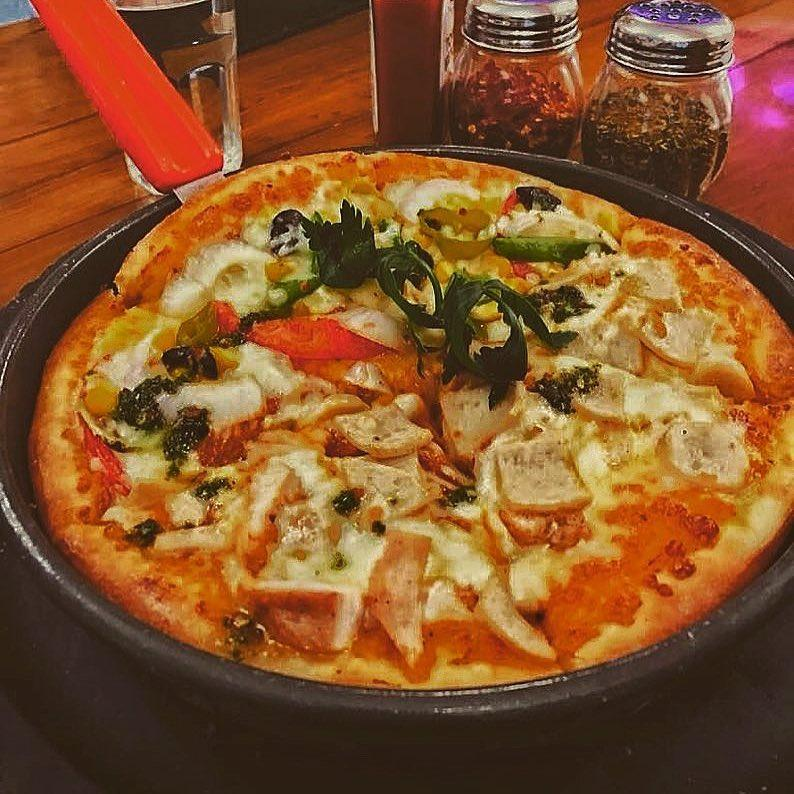Arugula: (286, 193, 518, 363)
Chicken: (588, 260, 723, 378), (481, 431, 616, 533), (231, 465, 311, 581), (368, 525, 436, 658), (151, 378, 266, 455), (243, 576, 351, 648), (656, 411, 748, 493), (481, 573, 557, 662), (318, 408, 426, 453)
Peppers: (228, 311, 398, 373)
Pizza: (38, 143, 793, 679)
